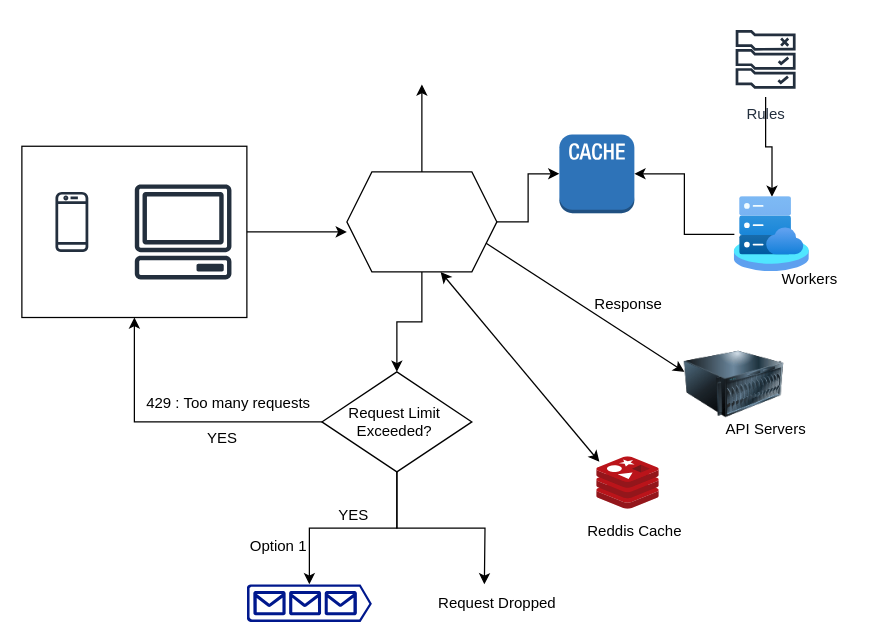
The diagram is 875 pixels wide and 644 high, and some of its shapes have lost their labels. The centre of each missing label's shape, as x and y in pixels:
"Mobile client" belongs at point (71, 221).
"Rate Limiter Middleware" belongs at point (421, 221).
